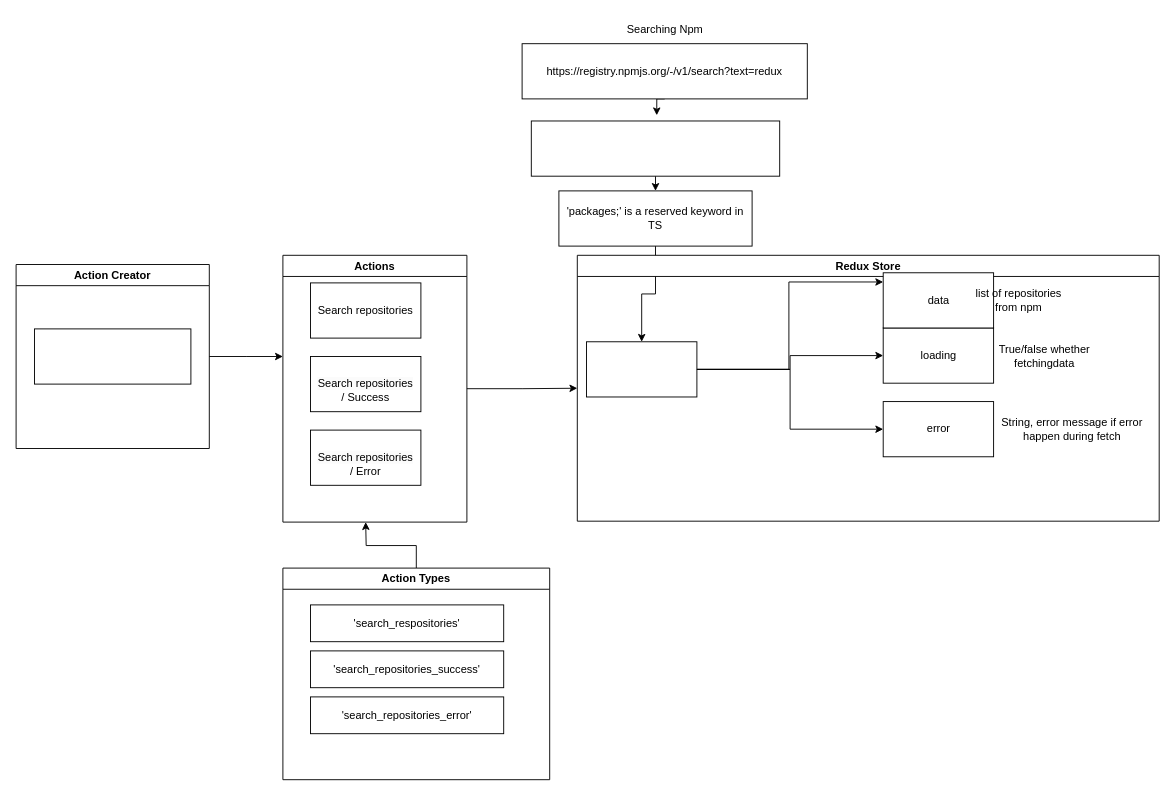
Some shapes in this 1176 by 796 pixel diagram are drawn without their labels. The shapes that lost their labels are listed below. From the top down, each one's centre as x and y in pixels, then its label:
At [655,148]: "Fetching 'packages'from NPM".
At [112,356]: "searchRespositories(term)".
At [641,369]: "Call NPM packages 'repositories'".
